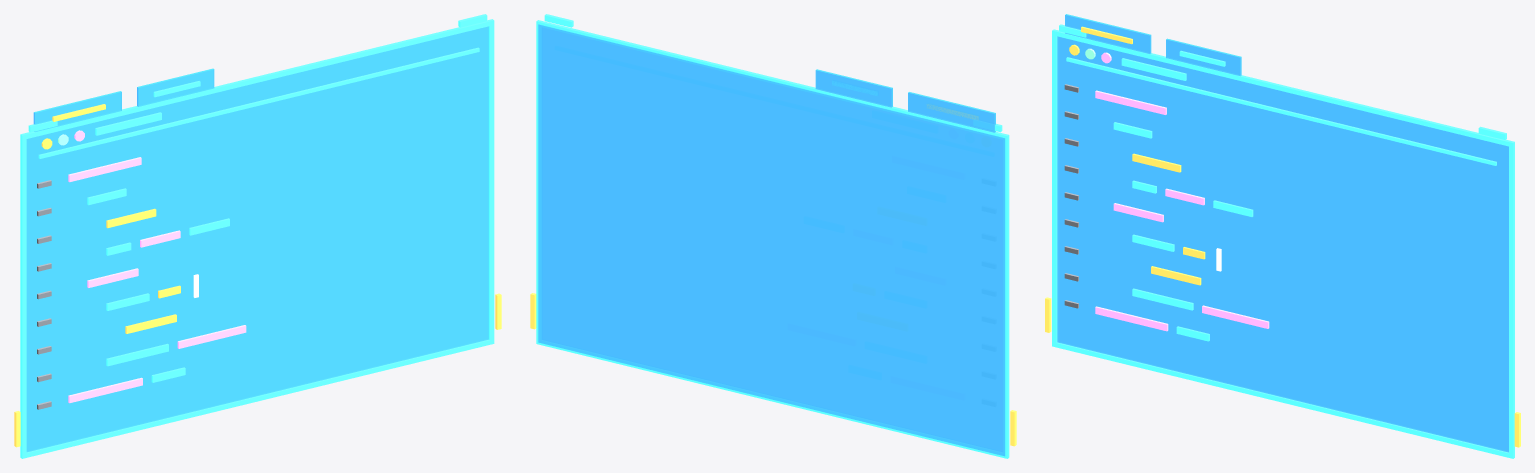
The model's file is holo_editor.glb.
3 views of the same model, side by side, from view 1: azimuth 30°, elevation 25°; view 2: azimuth 150°, elevation 25°; view 3: azimuth 330°, elevation 25° (orthographic). The views are drawn at different scales.
Parts seen in each view (by area): view 1: holo_editor; view 2: holo_editor; view 3: holo_editor.
Boxes of the visible parts, <box> form: holo_editor: <box>14,14,501,458</box>; holo_editor: <box>530,14,1016,458</box>; holo_editor: <box>1045,14,1520,458</box>.
Size of the model in its own units: 0.892 by 0.6015 by 0.014.
